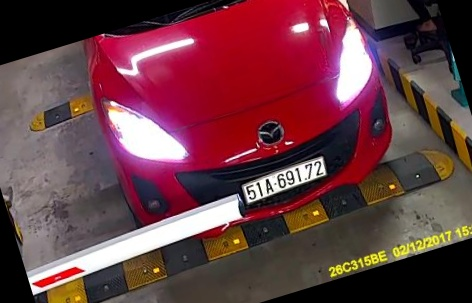plate: (234, 156, 333, 208)
